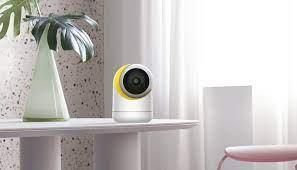maru: (106, 59, 155, 120)
